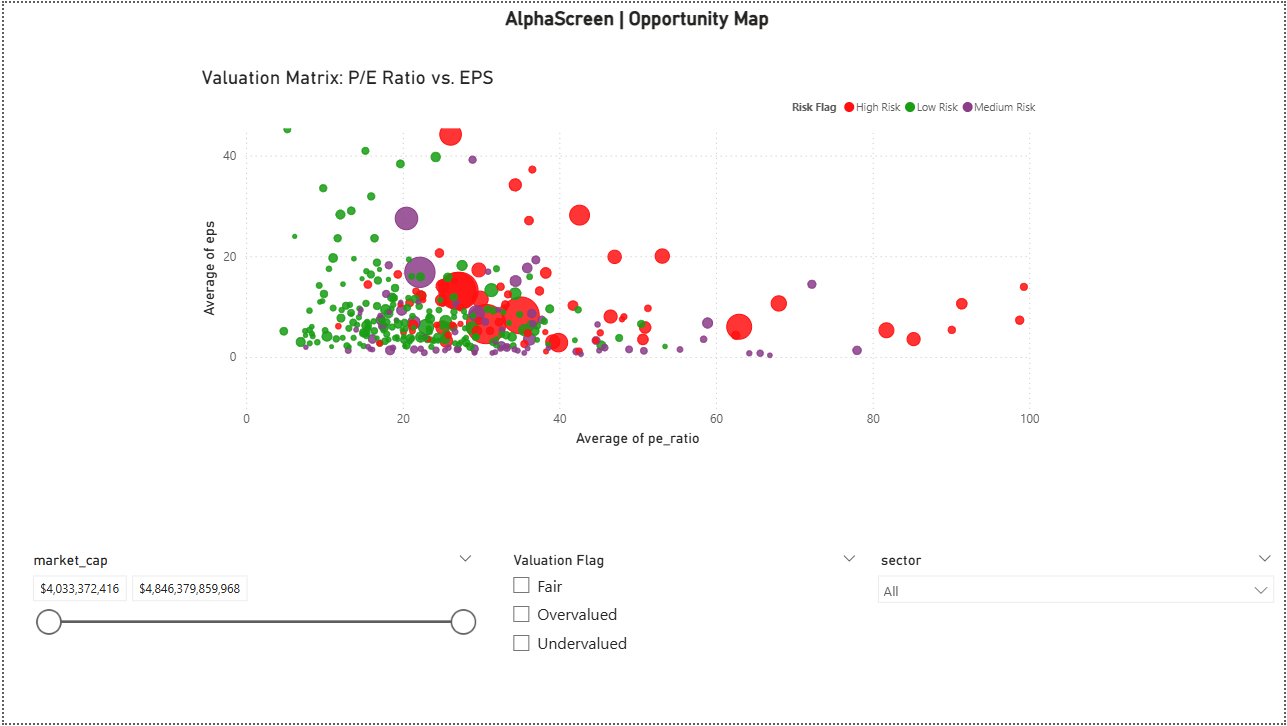

What the dashboard file says about the page in this screenshot:
{"tool":"powerbi","page":{"name":"Oppurtunity Map","canvas":[1280,720],"ordinal":2},"visuals":[{"type":"scatterChart","title":"Valuation Matrix: P/E Ratio vs. EPS","fields":{"X":["Avg(companies.pe_ratio)"],"Y":["Avg(companies.eps)"],"Size":["Avg(companies.market_cap)"],"Series":["companies.Risk Flag"],"Category":["companies.ticker"]},"box":[192,64,848,384],"z":0},{"type":"slicer","fields":{"Values":["companies.sector"]},"box":[864,544,416,176],"z":1000},{"type":"slicer","fields":{"Values":["companies.Valuation Flag"]},"box":[496,544,368,176],"z":2000},{"type":"slicer","fields":{"Values":["companies.market_cap"]},"box":[16,544,464,176],"z":3000},{"type":"textbox","box":[496,0,288,64],"z":4000}]}

Visuals, with their boxes in screenshot pixels (x1, y1, x2, y2), scaled from the page's 1280x720 canvas onto the 1287x726 screenshot:
"Valuation Matrix: P/E Ratio vs. EPS" scatterChart: [left=193, top=65, right=1046, bottom=452]
slicer - companies.sector: [left=869, top=549, right=1286, bottom=725]
slicer - companies.Valuation Flag: [left=499, top=549, right=869, bottom=725]
slicer - companies.market_cap: [left=16, top=549, right=483, bottom=725]
textbox: [left=499, top=0, right=788, bottom=65]
